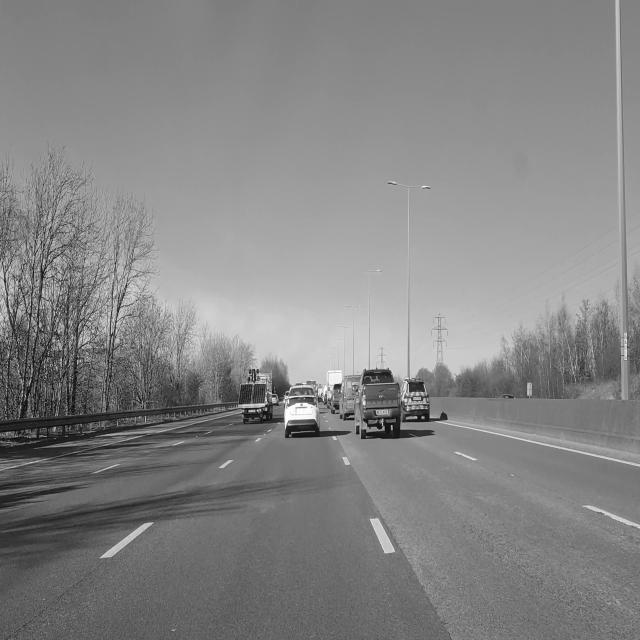car: (353, 364, 402, 443), (285, 385, 319, 437), (401, 378, 429, 422), (339, 376, 359, 420), (330, 383, 341, 413), (272, 394, 280, 406)
